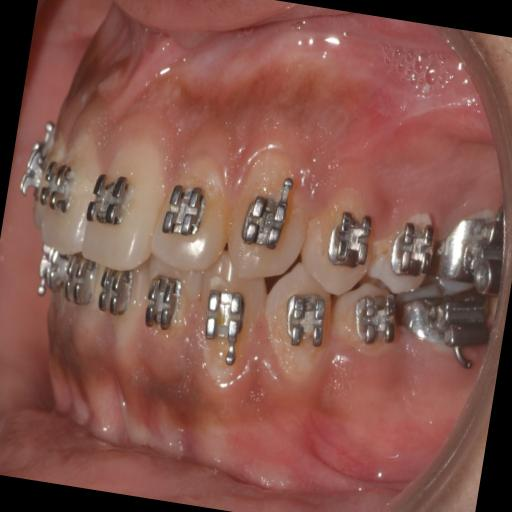correct_brace: (297, 174, 382, 305), (234, 166, 301, 260), (154, 174, 214, 244), (84, 168, 138, 230)
incorrect_brace: (148, 140, 240, 280), (320, 205, 376, 276)
